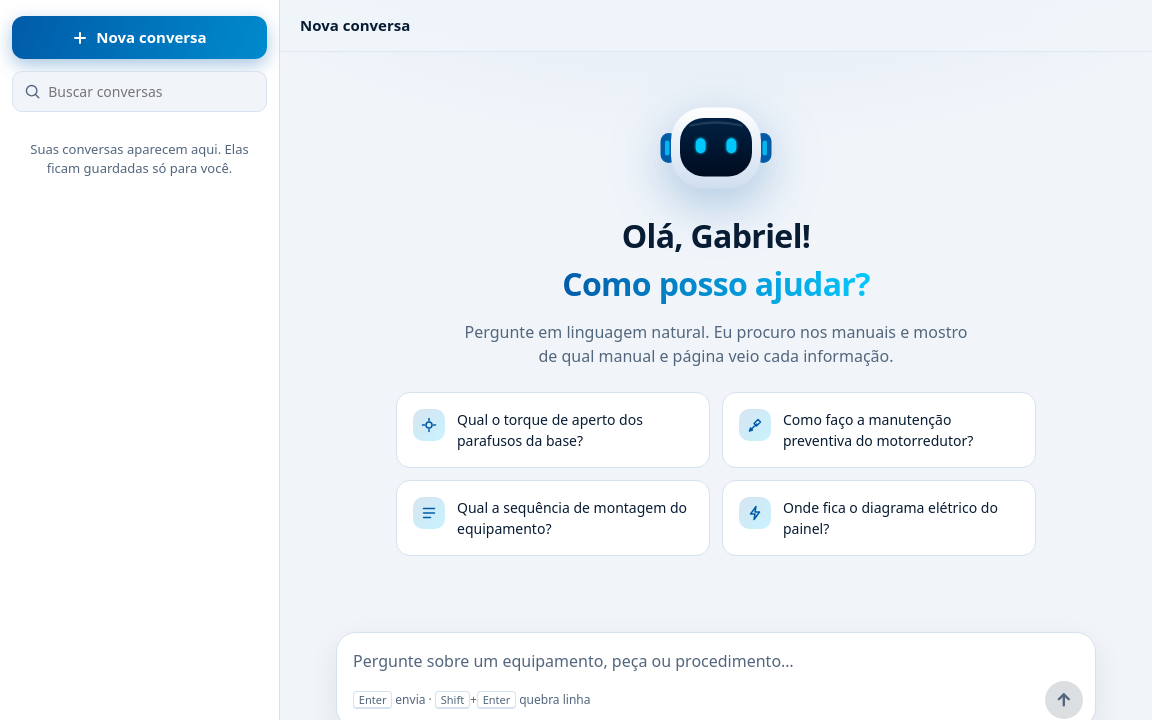
Test: <ChatPage /> › marks answers that were not found in the manuals
The image size is (1152, 720).
Type "Como faço um bolo?" into the text box named "sua pergunta" at (718, 661), box [353,645,1083,677]
Then press Enter
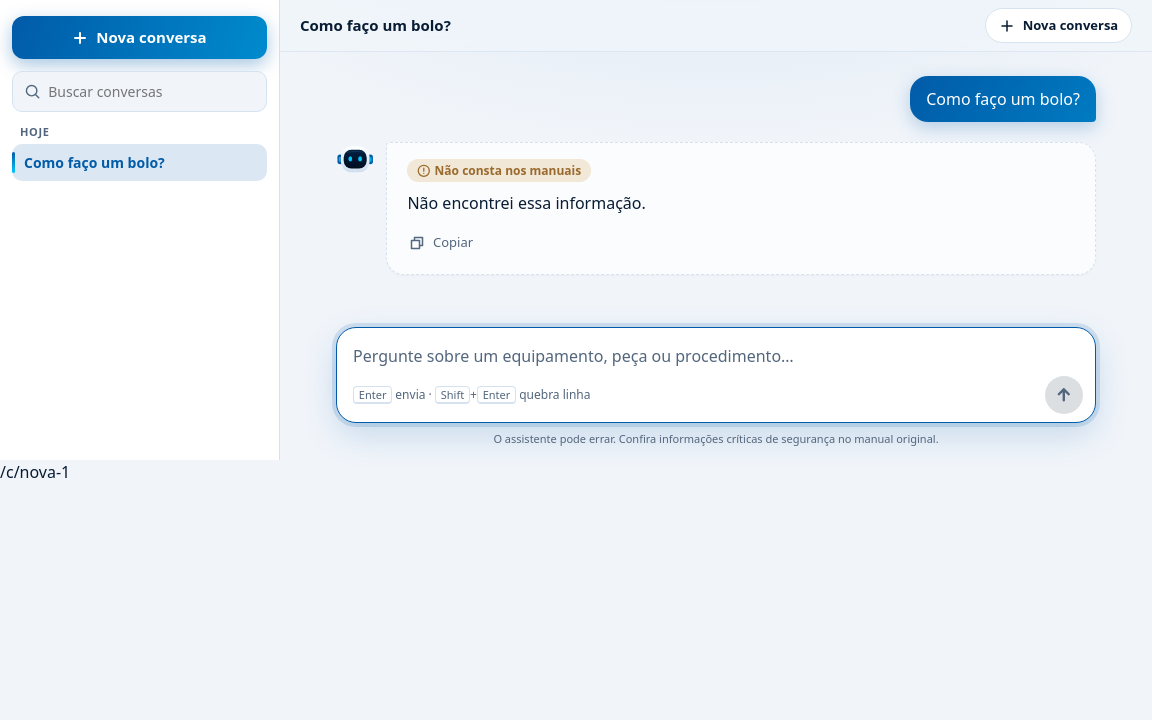
Check: the text "Não consta nos manuais" is shown, box [407,159,591,182]
